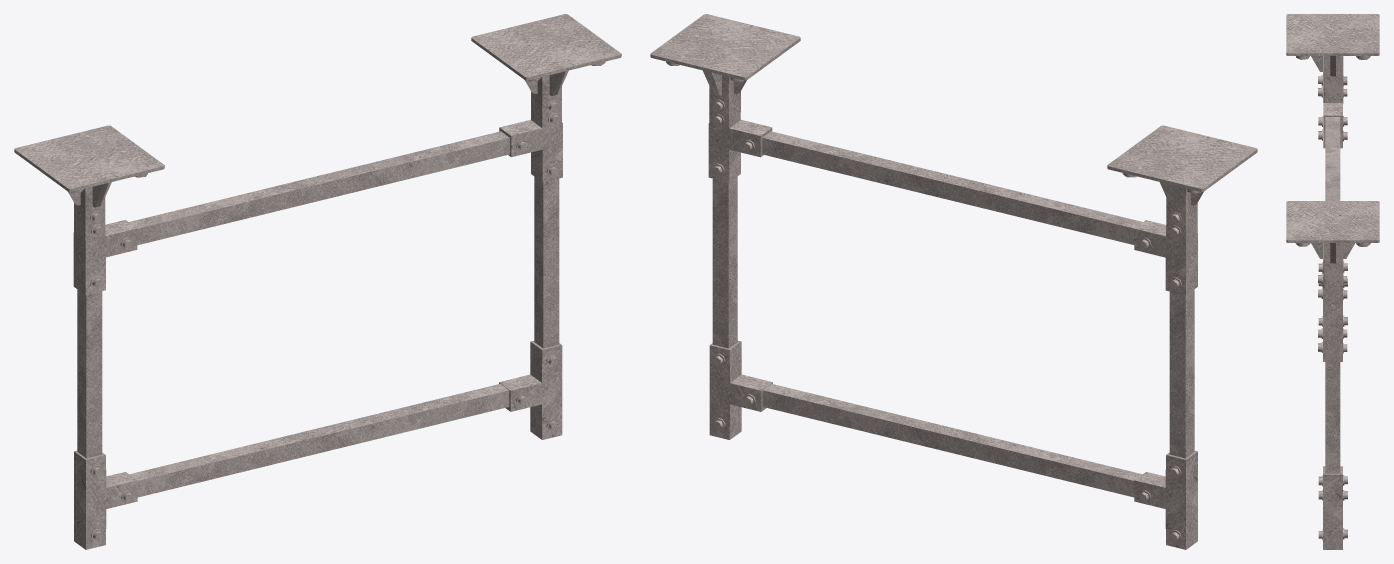
Rendered from SM_Square_Ducting_01c.glb.
The picture shows the model from 3 angles, left to right: view 1: azimuth 30°, elevation 25°; view 2: azimuth 150°, elevation 25°; view 3: azimuth 270°, elevation 25°; orthographic projection. The views are drawn at different scales.
Parts seen in each view (by area): view 1: SM_Square_Ducting_01c; view 2: SM_Square_Ducting_01c; view 3: SM_Square_Ducting_01c.
Part boxes in pixels (x1=…): SM_Square_Ducting_01c: x1=14, y1=14, x2=621, y2=549; SM_Square_Ducting_01c: x1=650, y1=14, x2=1257, y2=549; SM_Square_Ducting_01c: x1=1286, y1=14, x2=1379, y2=549.
Size of the model in its own units: 1.34 by 0.897 by 0.2335.
Materials: 1 (1 with a texture image).
